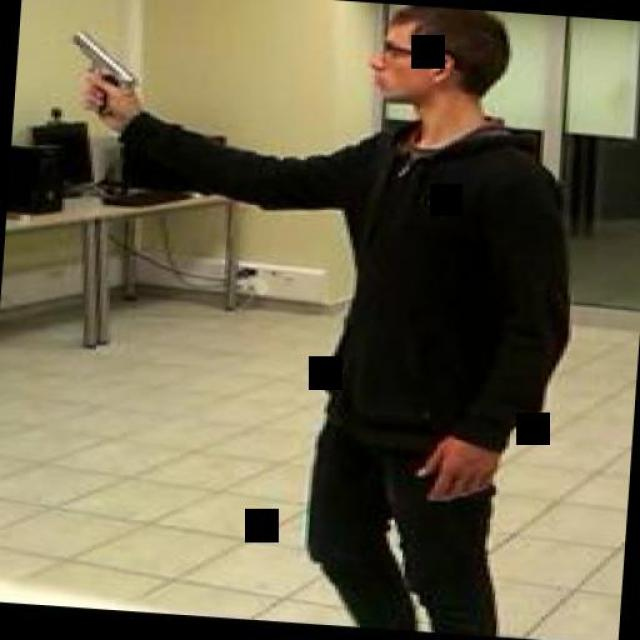gun: (62, 30, 150, 120)
